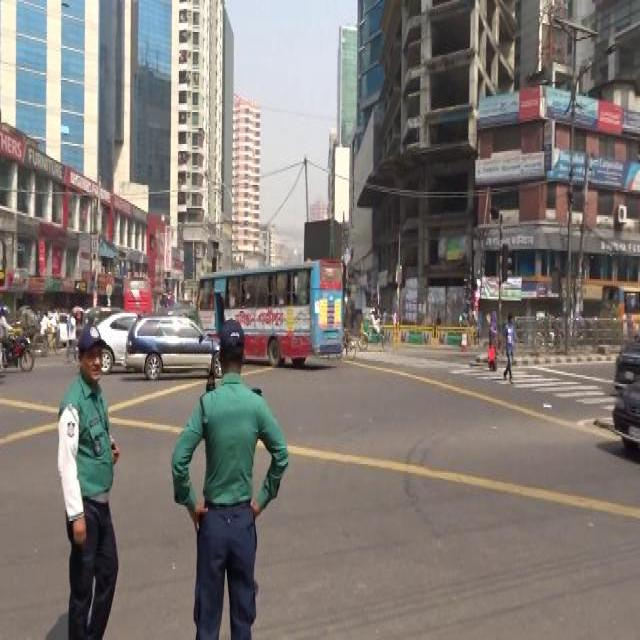bus: (197, 256, 346, 366), (124, 274, 154, 313)
car: (120, 308, 226, 385), (95, 308, 138, 378), (44, 310, 70, 348)
motorbike: (0, 302, 35, 375)
rickshaw: (358, 302, 392, 352), (20, 306, 58, 348), (70, 304, 84, 350)
